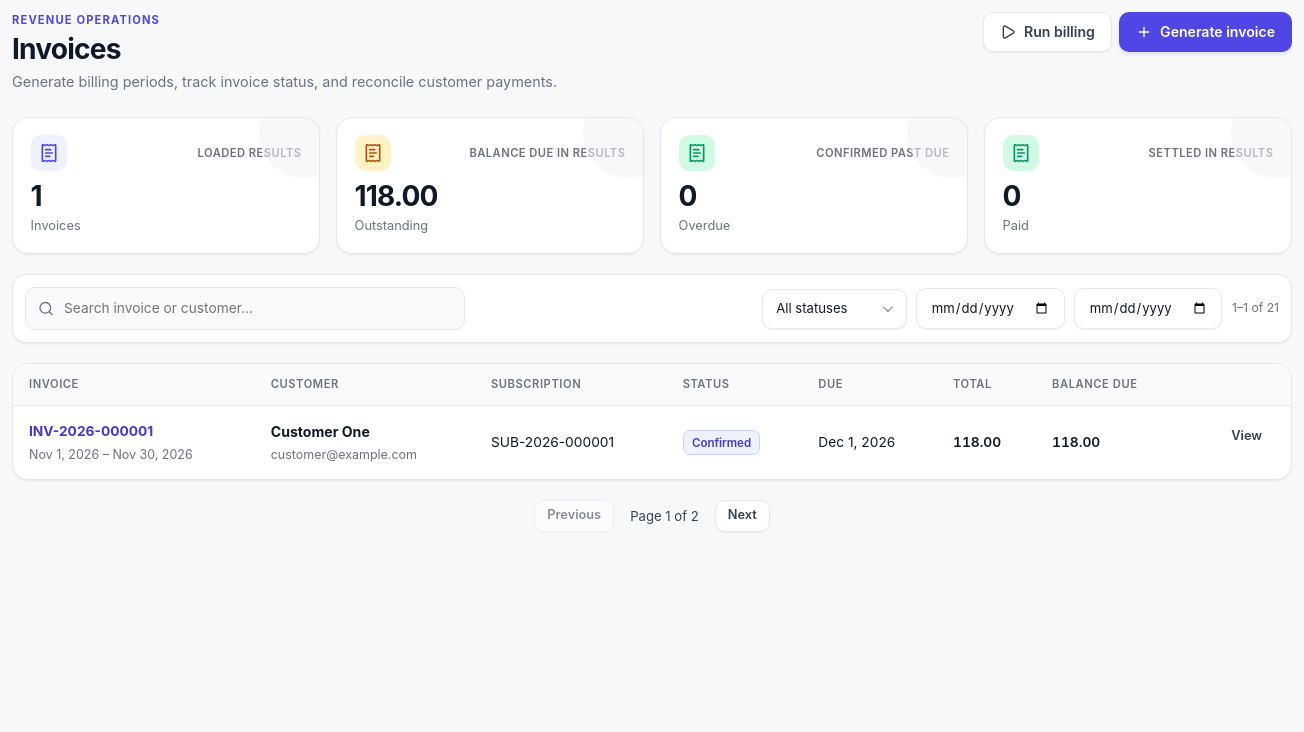
Test case: InvoicesPage › renders invoice totals and supports paginated results
Check: the button "INV-2026-000001" is shown, box [29,421,239,442]
Check: the text "118.00" is shown 3 times, box [355,179,438,213]; [937,406,1036,479]; [1036,406,1181,479]
Click the button "Next" at (742, 516), box [715,500,770,532]
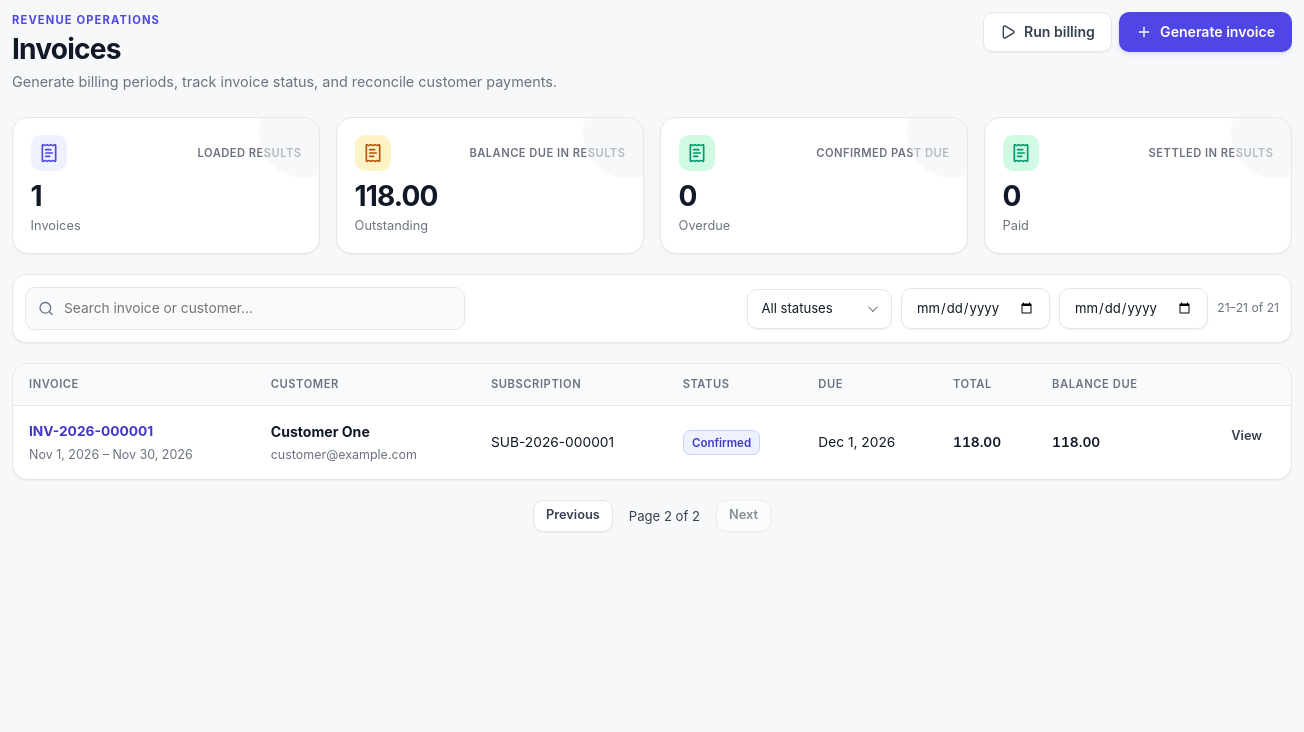
Check: the text "Page 2 of 2" is shown, box [629,506,700,526]
